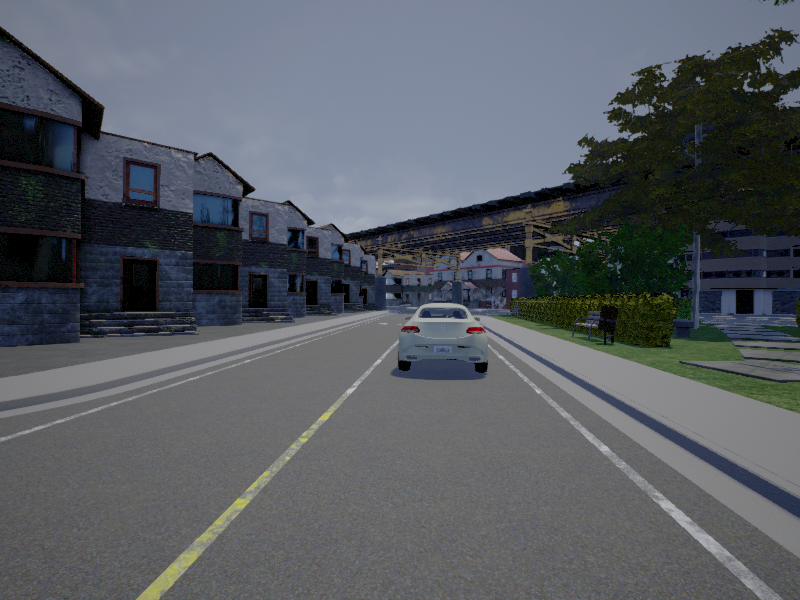Benign: (397, 303, 488, 372)
